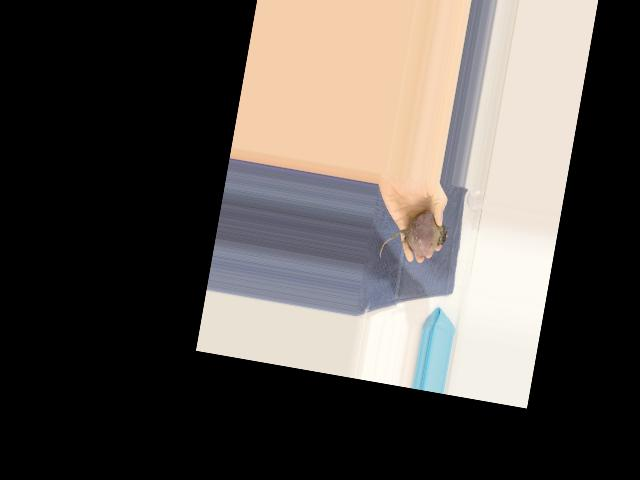beet: (378, 204, 450, 269)
